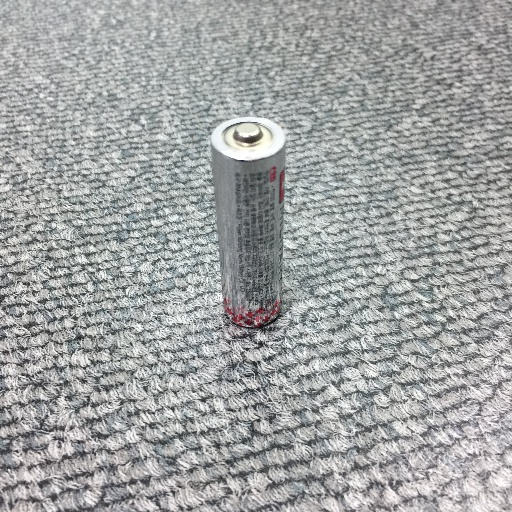Battery_0: (208, 112, 299, 336)
